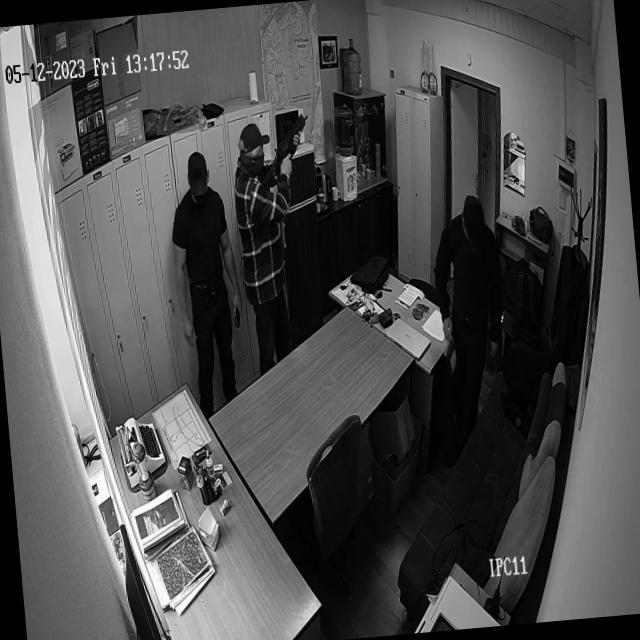gun: (256, 113, 314, 191)
person: (423, 191, 518, 461), (164, 148, 254, 420)
person with a gun: (228, 112, 330, 376)
